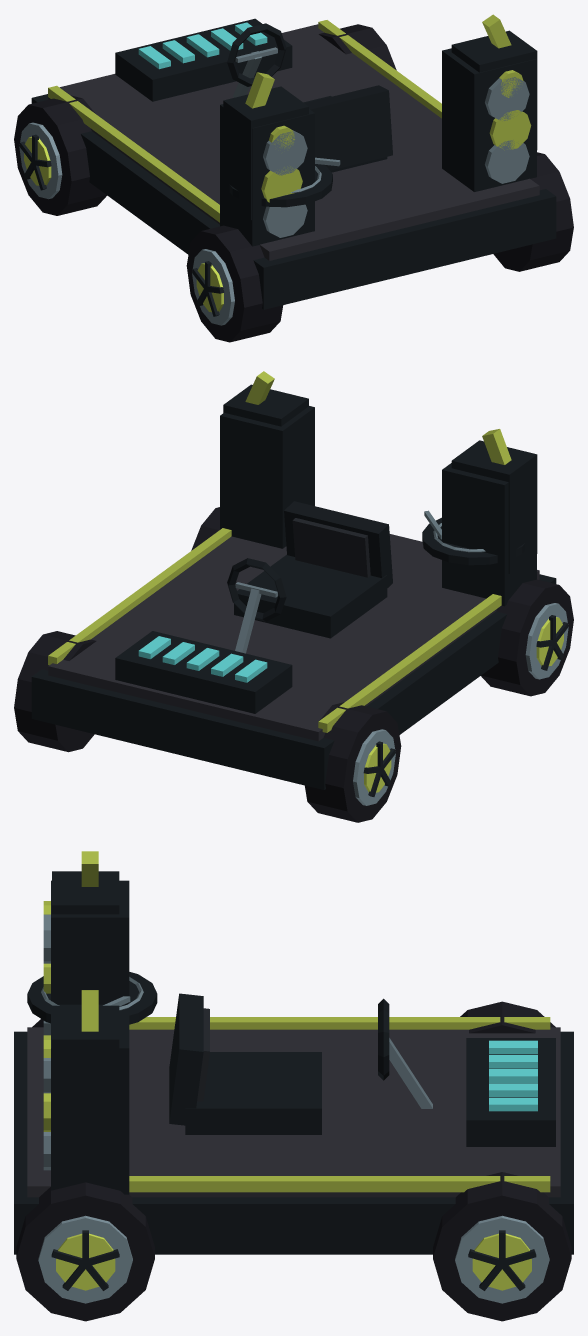
File: kart.glb
3 views of the same model, one above another, from view 1: azimuth 30°, elevation 25°; view 2: azimuth 150°, elevation 25°; view 3: azimuth 270°, elevation 25° (orthographic). The views are drawn at different scales.
Visible parts, largest first — view 1: identity-stage-stage-platform-and-pa-towers, identity-stage-motif-speakers, wheel-rear-left, wheel-front-left, identity-stage-driver-cockpit, wheel-rear-right, identity-stage-motif-vinyl, identity-stage-motif-electric, wheel-front-right; view 2: identity-stage-stage-platform-and-pa-towers, identity-stage-driver-cockpit, wheel-front-left, wheel-rear-left, identity-stage-motif-speakers, wheel-front-right, identity-stage-motif-vinyl, identity-stage-motif-electric; view 3: identity-stage-stage-platform-and-pa-towers, identity-stage-driver-cockpit, wheel-front-right, wheel-rear-right, identity-stage-motif-speakers, identity-stage-motif-vinyl, wheel-front-left, identity-stage-motif-electric.
Part boxes in pixels (bbox=[...]): identity-stage-stage-platform-and-pa-towers: bbox=[31, 18, 556, 309]; identity-stage-motif-speakers: bbox=[223, 30, 537, 219]; wheel-rear-left: bbox=[186, 225, 283, 342]; wheel-front-left: bbox=[14, 95, 106, 215]; identity-stage-driver-cockpit: bbox=[227, 23, 392, 172]; wheel-rear-right: bbox=[493, 152, 573, 271]; identity-stage-motif-vinyl: bbox=[229, 157, 340, 207]; identity-stage-motif-electric: bbox=[245, 14, 511, 108]; wheel-front-right: bbox=[318, 24, 396, 70]; identity-stage-stage-platform-and-pa-towers: bbox=[31, 406, 556, 789]; identity-stage-driver-cockpit: bbox=[227, 501, 392, 653]; wheel-front-left: bbox=[305, 702, 401, 822]; wheel-rear-left: bbox=[481, 579, 573, 696]; identity-stage-motif-speakers: bbox=[223, 384, 537, 573]; wheel-front-right: bbox=[14, 631, 96, 752]; identity-stage-motif-vinyl: bbox=[422, 510, 525, 565]; identity-stage-motif-electric: bbox=[245, 371, 511, 464]; identity-stage-stage-platform-and-pa-towers: bbox=[14, 880, 573, 1254]; identity-stage-driver-cockpit: bbox=[169, 993, 432, 1134]; wheel-front-right: bbox=[433, 1172, 571, 1321]; wheel-rear-right: bbox=[16, 1182, 154, 1321]; identity-stage-motif-speakers: bbox=[43, 871, 119, 1159]; identity-stage-motif-vinyl: bbox=[27, 972, 157, 1024]; wheel-front-left: bbox=[460, 1001, 555, 1033]; identity-stage-motif-electric: bbox=[81, 851, 98, 1031].
Bounding box in the file's own units: 2.16 × 1.49 × 2.5.
